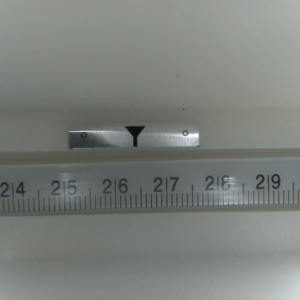2: (49, 180, 60, 195), (152, 176, 162, 192), (101, 178, 111, 194), (204, 175, 214, 190), (255, 174, 265, 189), (0, 182, 10, 197)
4: (15, 182, 26, 196)
5: (67, 180, 76, 195)
6: (117, 177, 127, 193), (221, 175, 231, 190)
7: (169, 176, 179, 192)
9: (270, 174, 280, 189)
finger: (123, 126, 145, 149)
